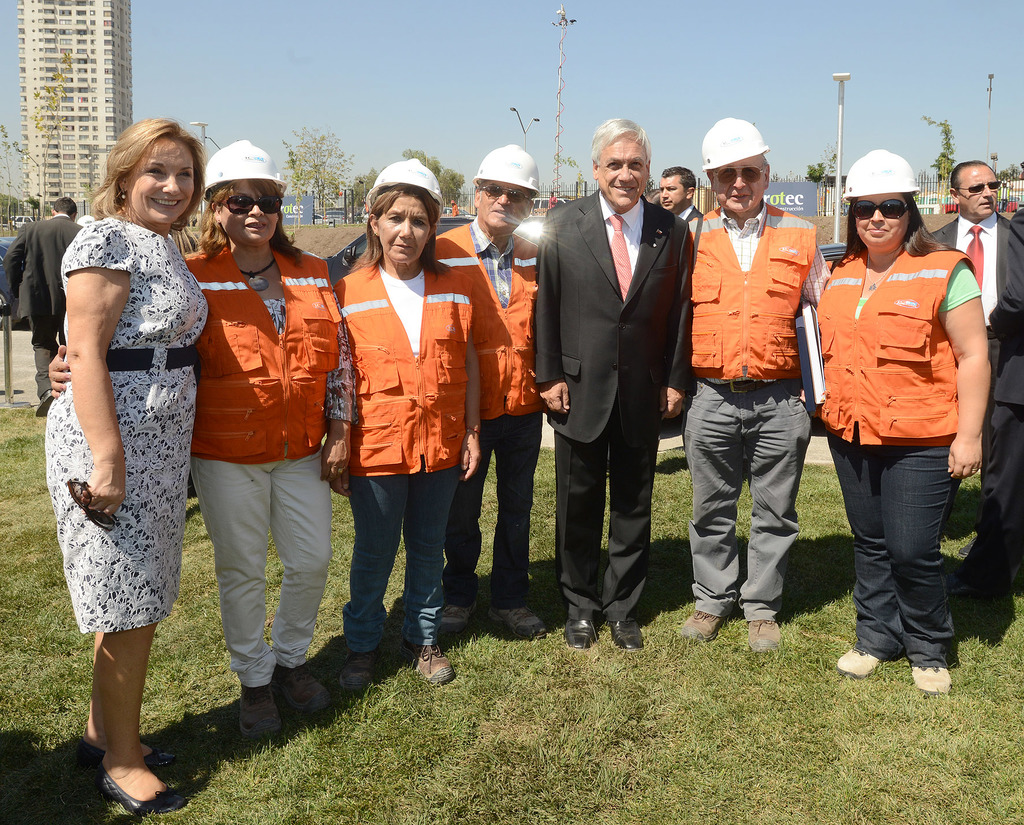Tree: (353, 149, 467, 237), (276, 121, 358, 234)
